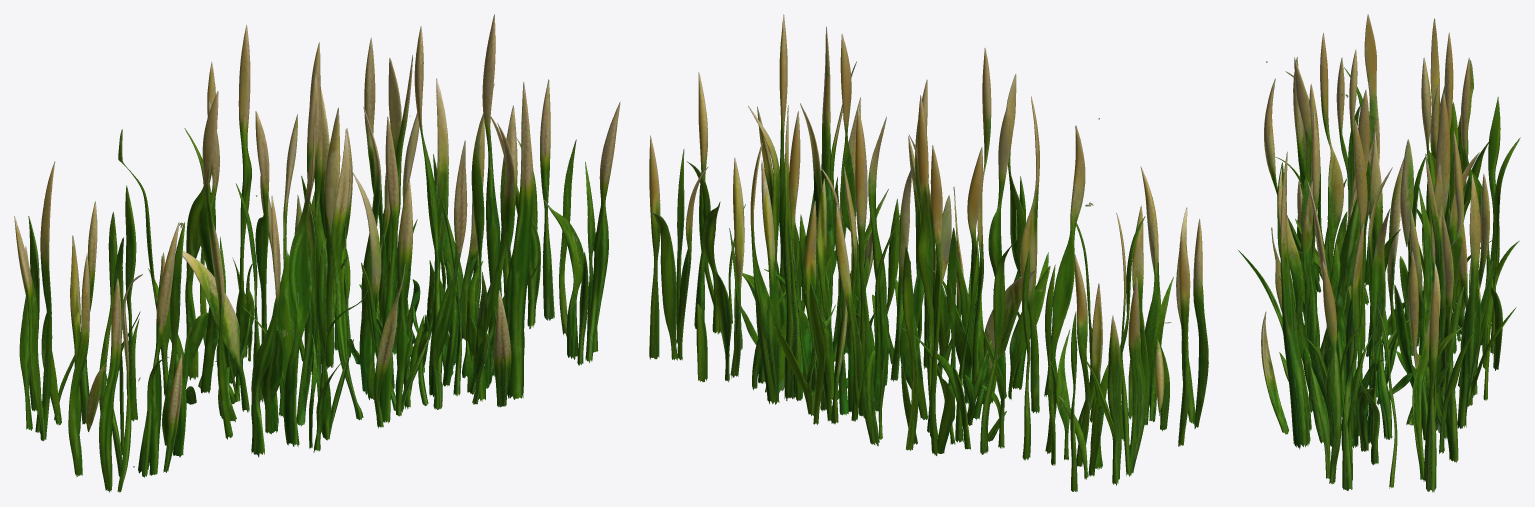
File: sea_grass.glb
The picture shows the model from 3 angles, left to right: view 1: azimuth 30°, elevation 25°; view 2: azimuth 150°, elevation 25°; view 3: azimuth 270°, elevation 25°; orthographic projection. The views are drawn at different scales.
Parts seen in each view (by area): view 1: Sea_Grass_mesh; view 2: Sea_Grass_mesh; view 3: Sea_Grass_mesh.
Part boxes in pixels (x1=…): Sea_Grass_mesh: x1=14, y1=14, x2=620, y2=492; Sea_Grass_mesh: x1=649, y1=14, x2=1208, y2=491; Sea_Grass_mesh: x1=1237, y1=14, x2=1520, y2=492.
Bounding box in the file's own units: 1.85 × 1.2 × 0.9269.
1 material, 1 textured.
